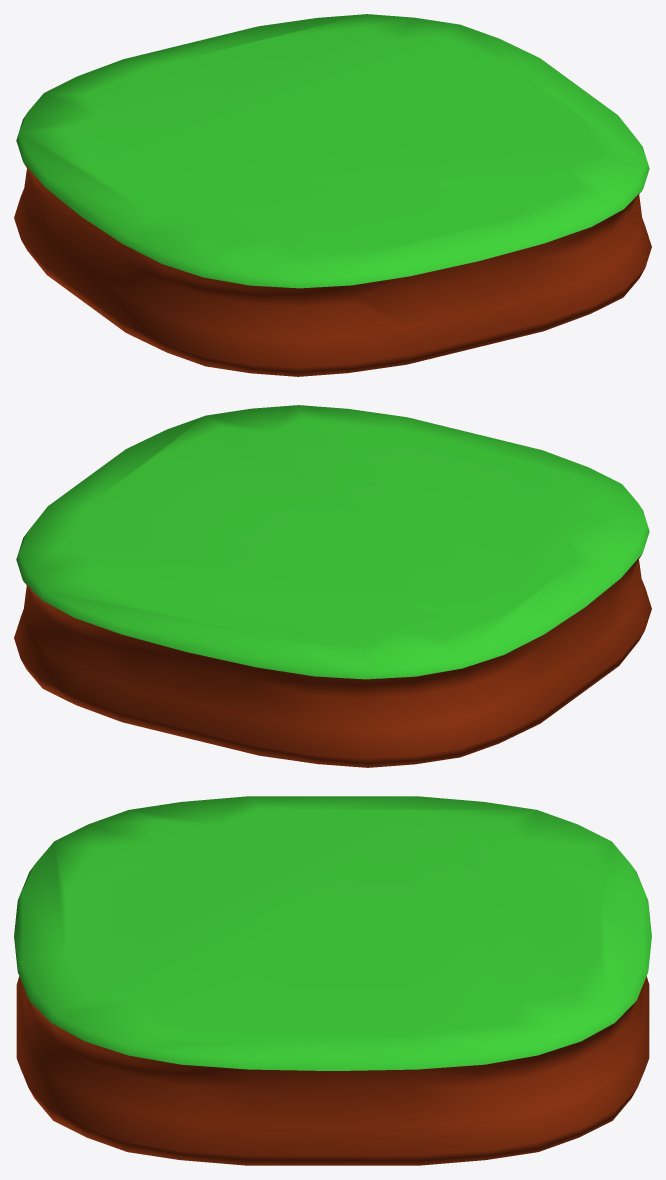
Rendered from Platform_2.fbx.
The picture shows the model from 3 angles, top to bottom: view 1: azimuth 30°, elevation 25°; view 2: azimuth 150°, elevation 25°; view 3: azimuth 270°, elevation 25°; orthographic projection. The views are drawn at different scales.
Parts seen in each view (by area): view 1: Platform_2; view 2: Platform_2; view 3: Platform_2.
Boxes of the visible parts, x1=… form: Platform_2: x1=14, y1=14, x2=651, y2=376; Platform_2: x1=14, y1=405, x2=651, y2=767; Platform_2: x1=14, y1=796, x2=651, y2=1165.
Size of the model in its own units: 5.56 by 5.56 by 1.08.
